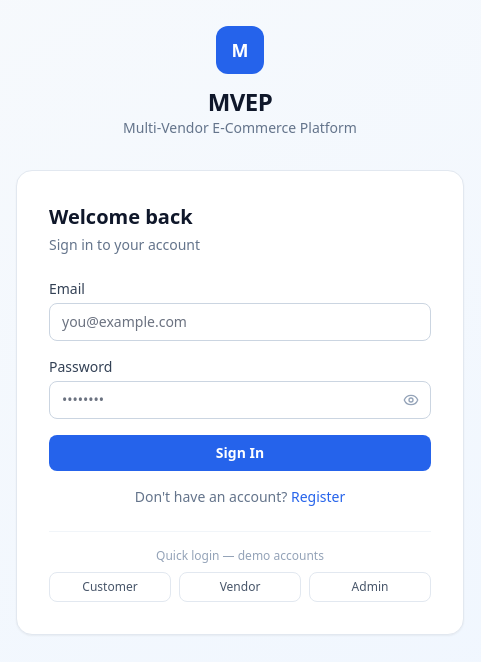
Test case: LoginPage › shows validation error when password is too short
The image size is (481, 662).
In the field with placeholder "you@example.com": [240, 322] box x1=49 y1=302 x2=431 y2=340, type "user@example.com"
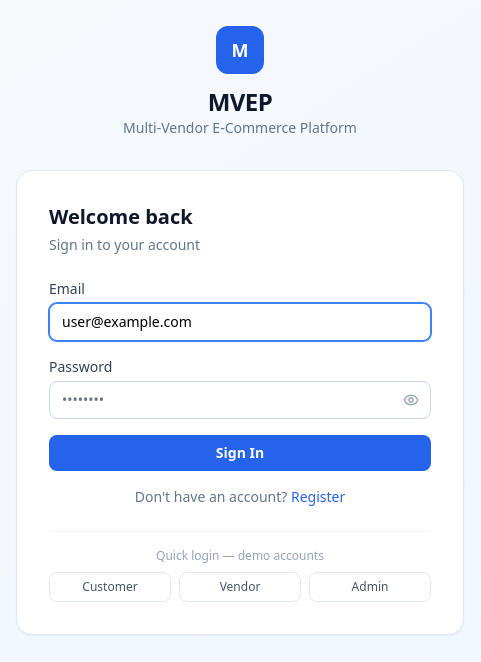
In the password field with placeholder "••••••••": [240, 400] box x1=49 y1=380 x2=431 y2=418, type "abc"
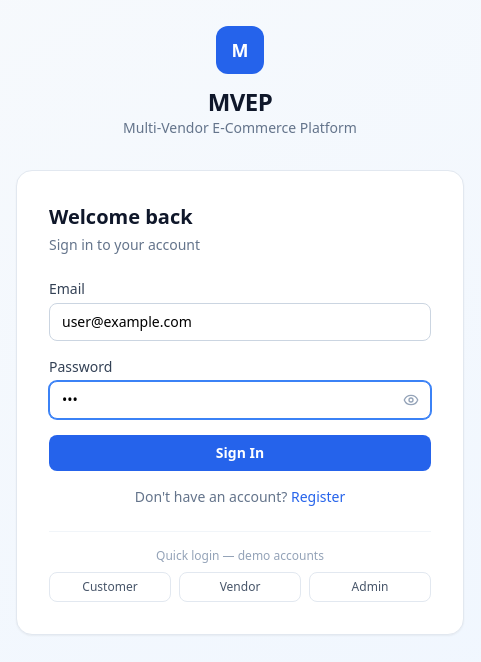
Click the button "Sign In": [240, 452] box x1=49 y1=434 x2=431 y2=470
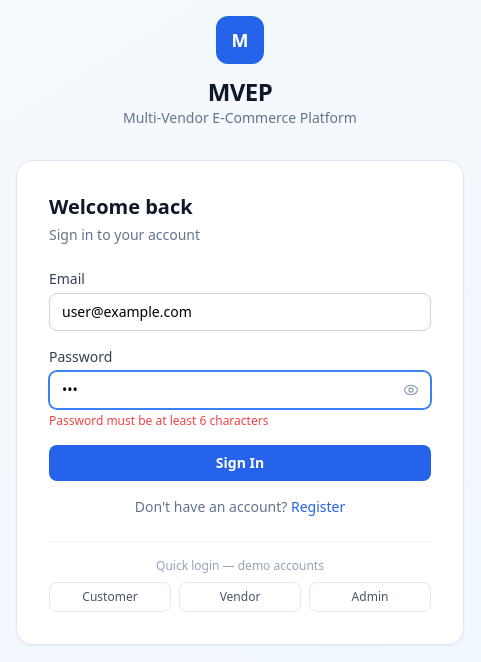
Expected: the text "Password must be at least 6 characters" is shown, x1=49 y1=412 x2=268 y2=428
